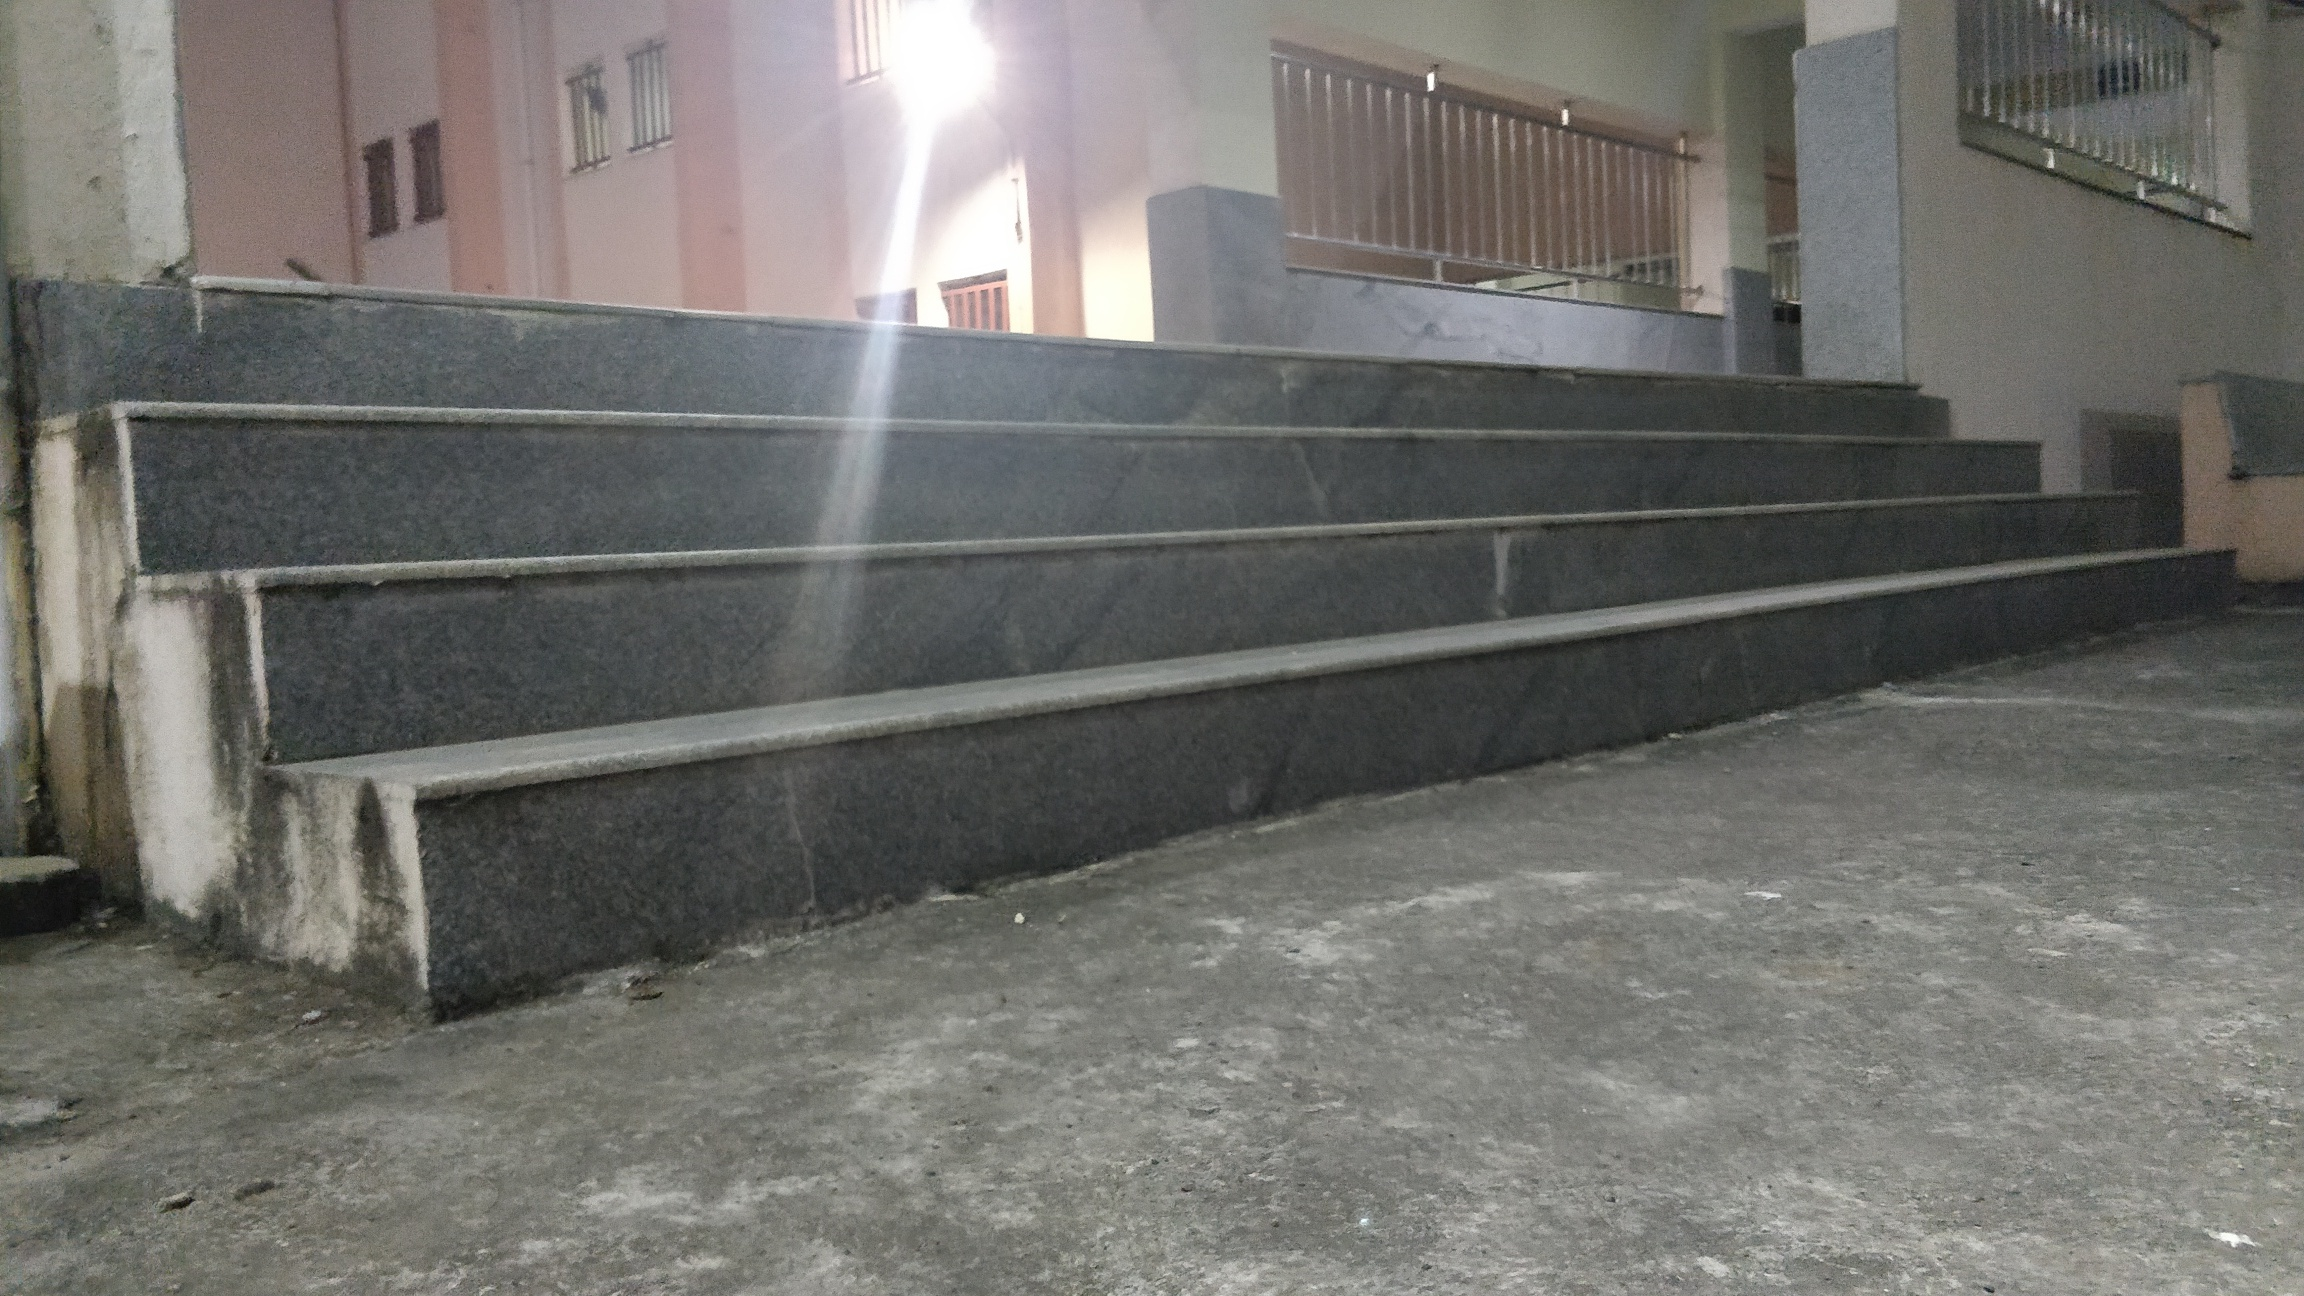stairs_up: (52, 324, 2068, 725)
